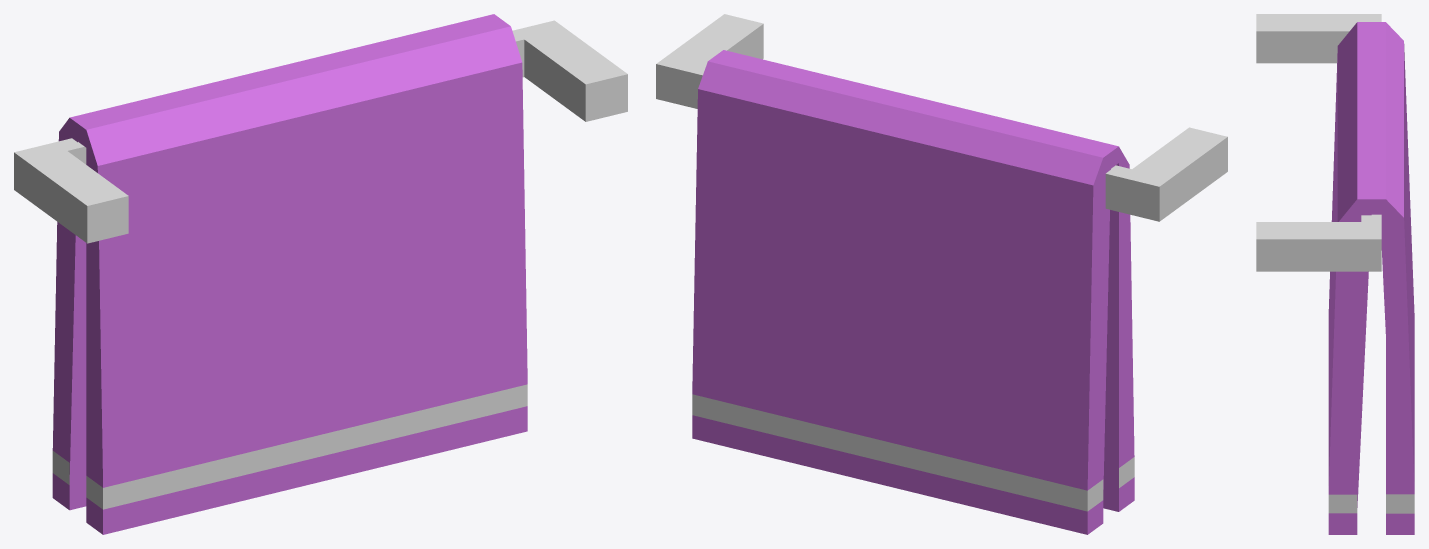
File: toalla.fbx
The picture shows the model from 3 angles, left to right: view 1: azimuth 30°, elevation 25°; view 2: azimuth 150°, elevation 25°; view 3: azimuth 270°, elevation 25°; orthographic projection. The views are drawn at different scales.
Visible parts, largest first — view 1: Cube.001; view 2: Cube.001; view 3: Cube.001.
Boxes of the visible parts, x1,y1,x2,y2 form: Cube.001: [14, 14, 627, 534]; Cube.001: [656, 14, 1227, 534]; Cube.001: [1256, 14, 1414, 534].
Bounding box in the file's own units: 255 × 177 × 75.55.
